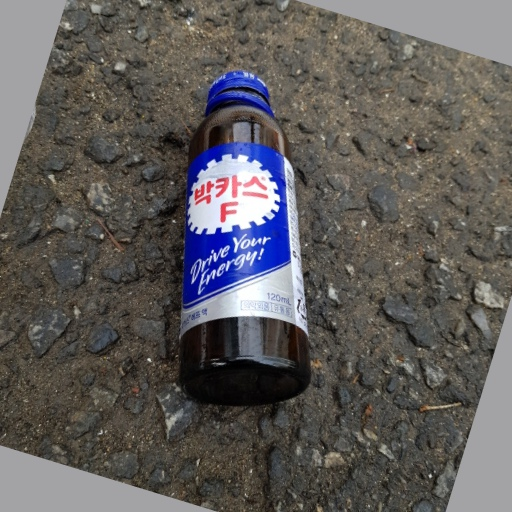Glass_3: (176, 71, 313, 406)
